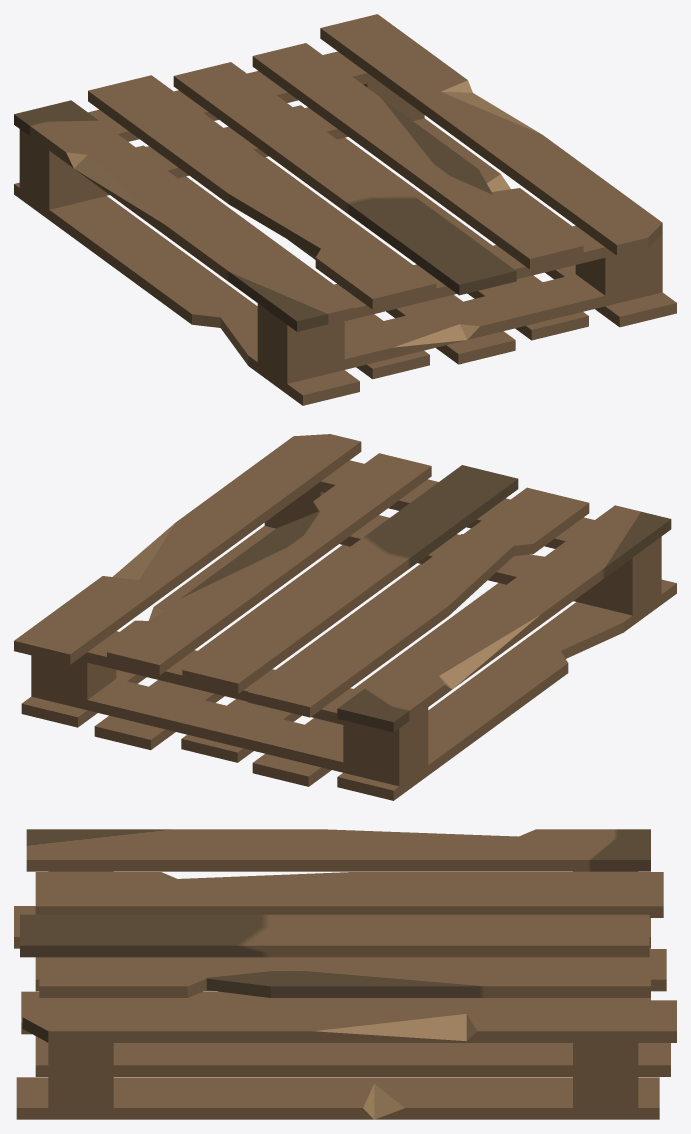
The model's file is SM_Wooden_Pallet_A.gltf.
3 renders of one model, top to bottom at view 1: azimuth 30°, elevation 25°; view 2: azimuth 150°, elevation 25°; view 3: azimuth 270°, elevation 25°, orthographic. The views are drawn at different scales.
Visible parts, largest first — view 1: SM_Wooden_Pallet_A; view 2: SM_Wooden_Pallet_A; view 3: SM_Wooden_Pallet_A.
Part boxes in pixels (box(x1,y1,x2,y2)): SM_Wooden_Pallet_A: box(14, 14, 676, 405); SM_Wooden_Pallet_A: box(14, 434, 676, 800); SM_Wooden_Pallet_A: box(14, 829, 676, 1119).
Bounding box in the file's own units: 1.12 × 0.2284 × 1.55.
Materials: 1 (1 with a texture image).
